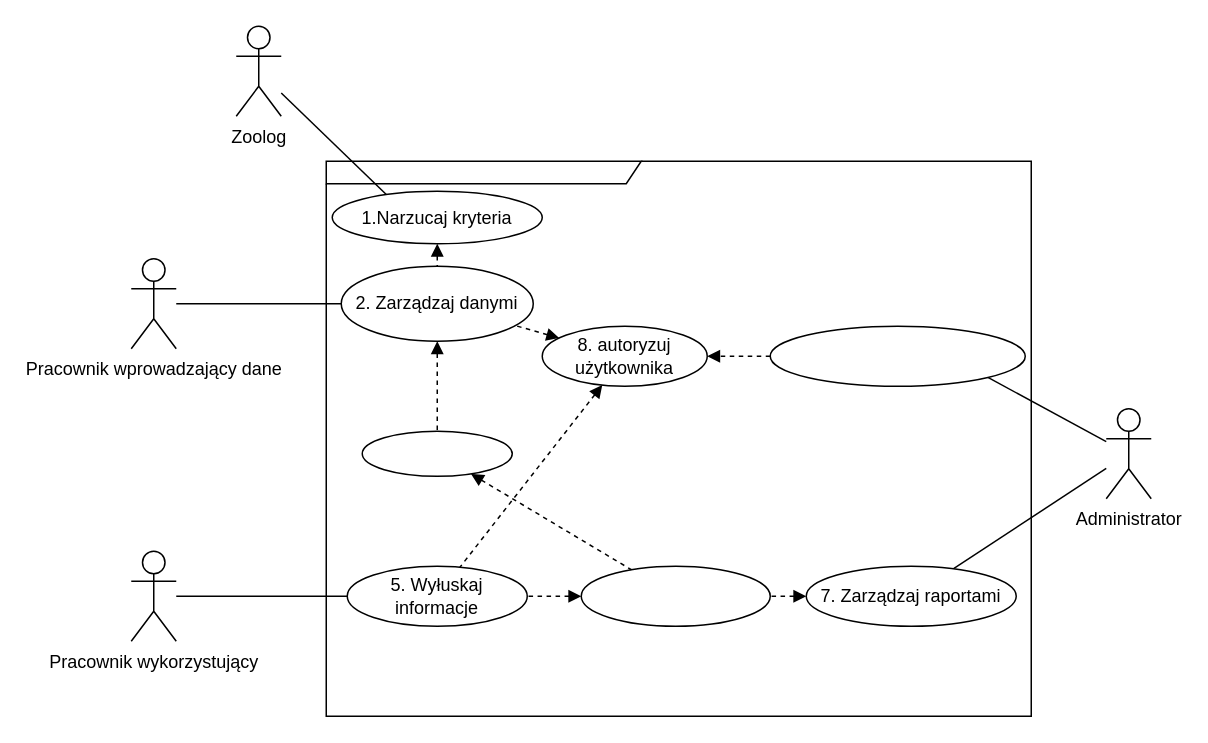
This 1208x743 diagram has some shape labels left out. Here are the shapes that lost their labels. From the top down, the box of each, then its label:
(769, 325, 1025, 386): 6. Zarządzaj użytkownikami
(361, 430, 512, 476): 3. Stwórz tabele
(325, 160, 1031, 716): Zoo VIP
(580, 565, 770, 626): 4 . Generuj raport
